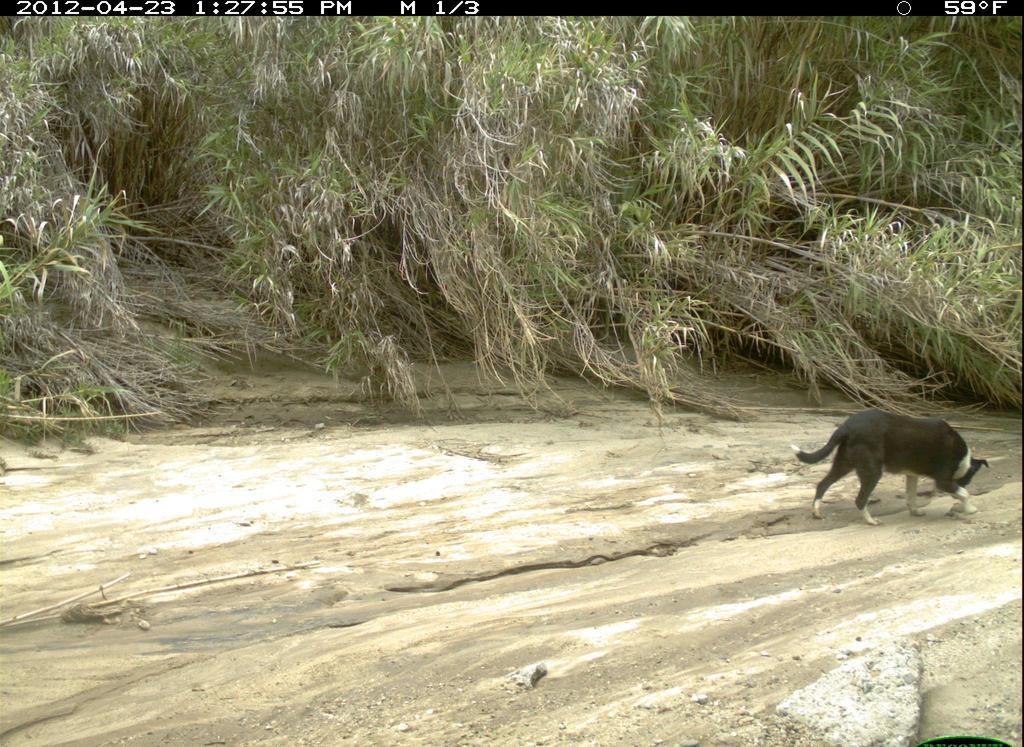dog: (788, 397, 990, 536)
